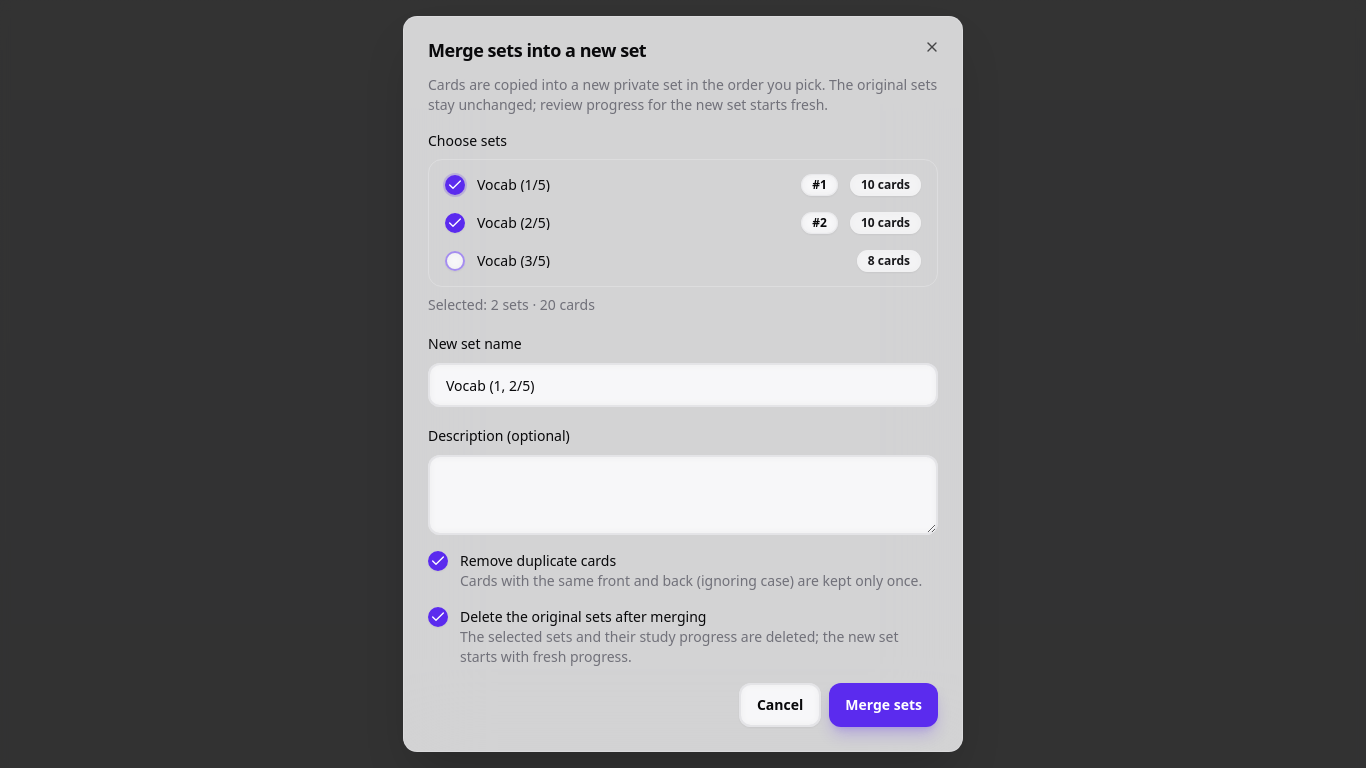
Scenario: MergeSetsDialog › explains the card limit error from the API
Step 1. Click the button "Merge sets" → (884, 705), box [829,683,938,727]
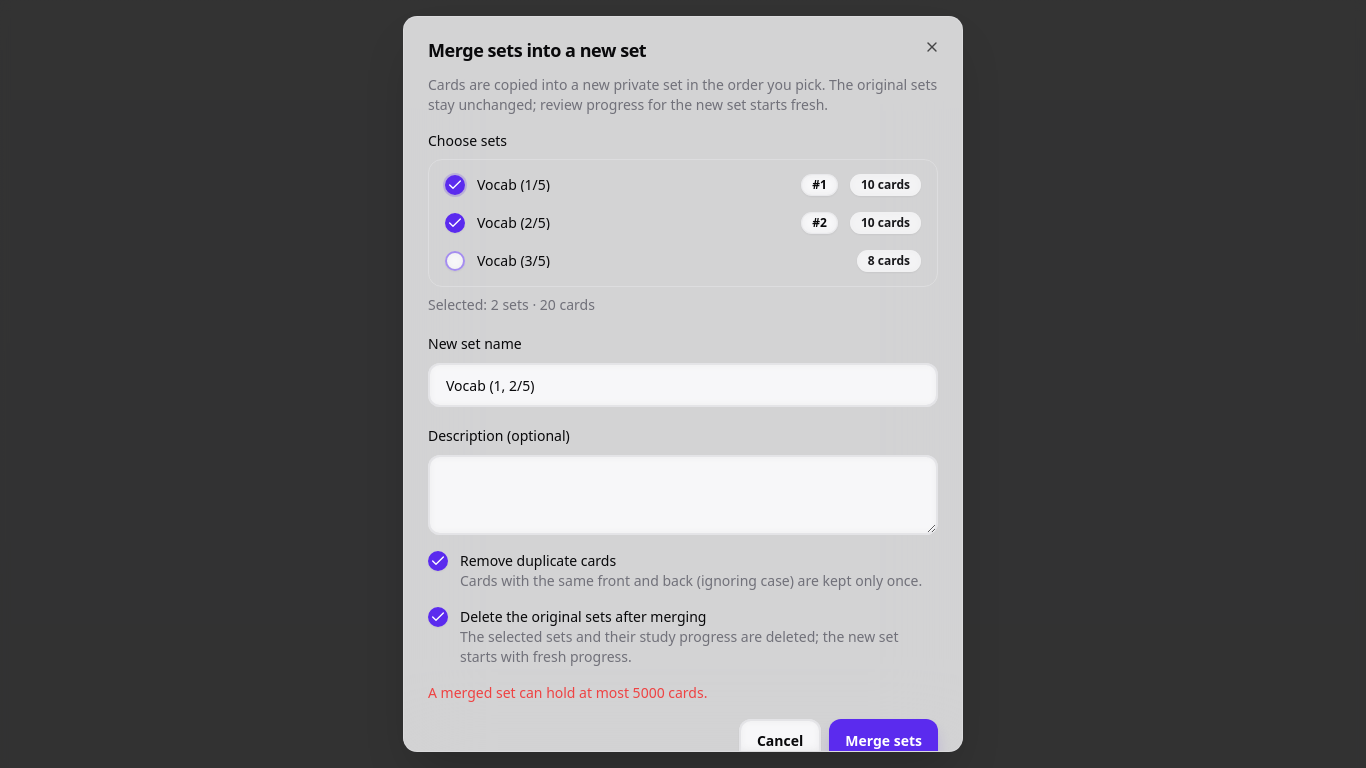
expect the text "A merged set can hold at most 5000 cards." is shown: met, box [428,683,708,702]
